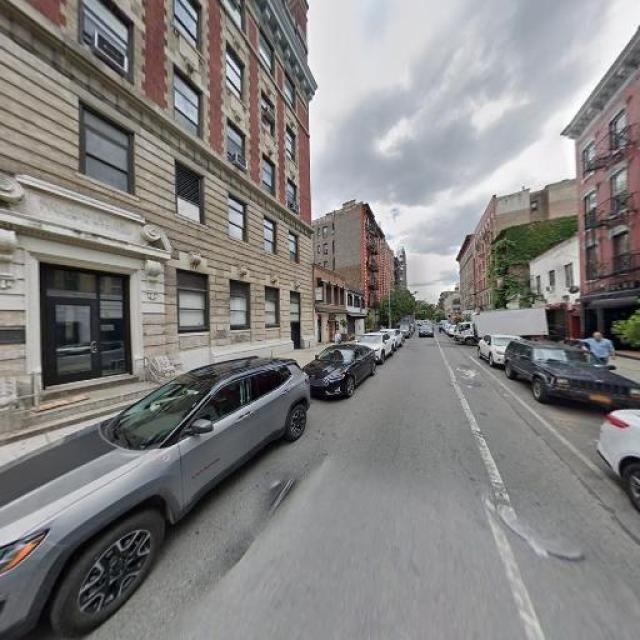Building: (1, 1, 312, 417), (585, 49, 640, 355)
